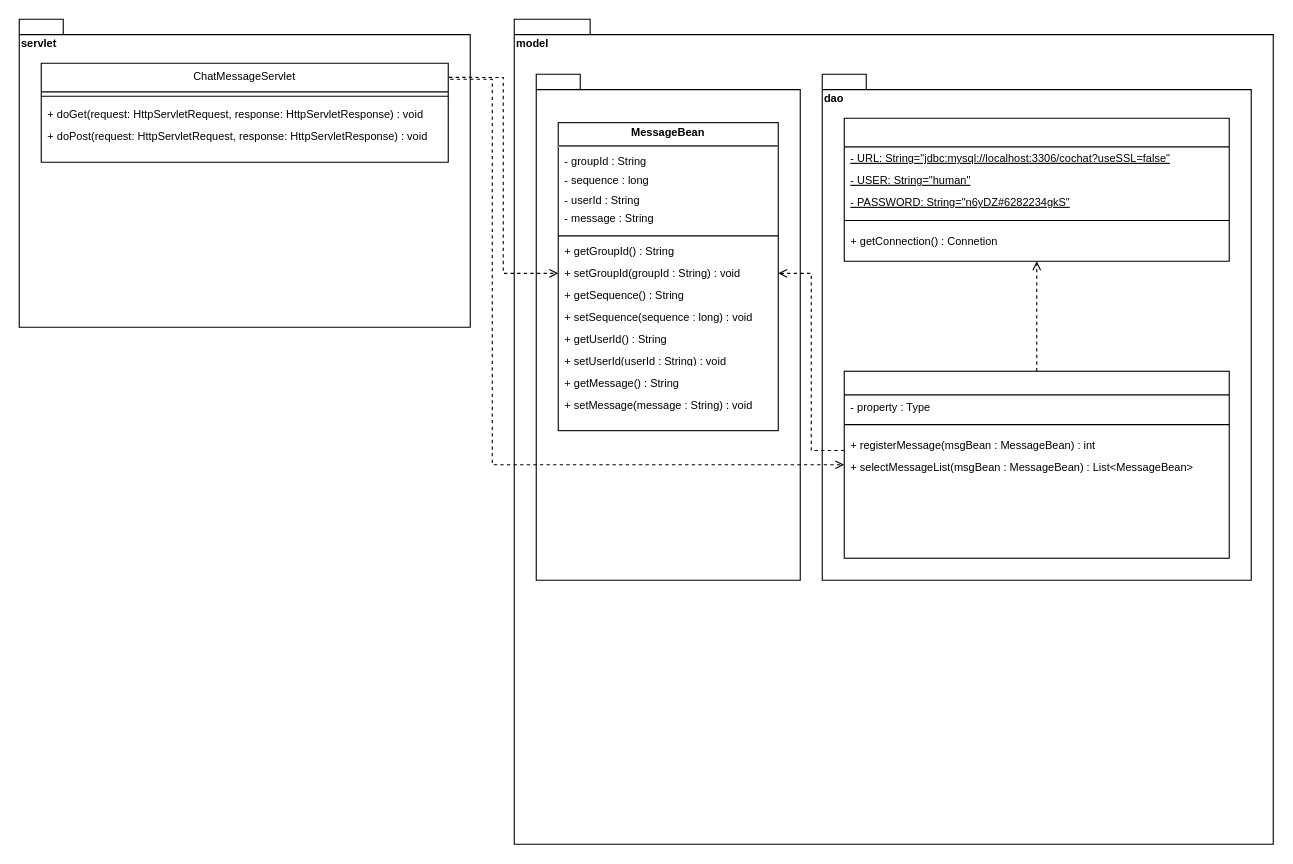
Some shapes in this 1293 by 864 pixel diagram are drawn without their labels. Each missing label, with the box of its shape:
ConnectionManager: (843, 117, 1229, 261)
entity: (535, 73, 800, 580)
MessageDAO: (843, 370, 1229, 558)
